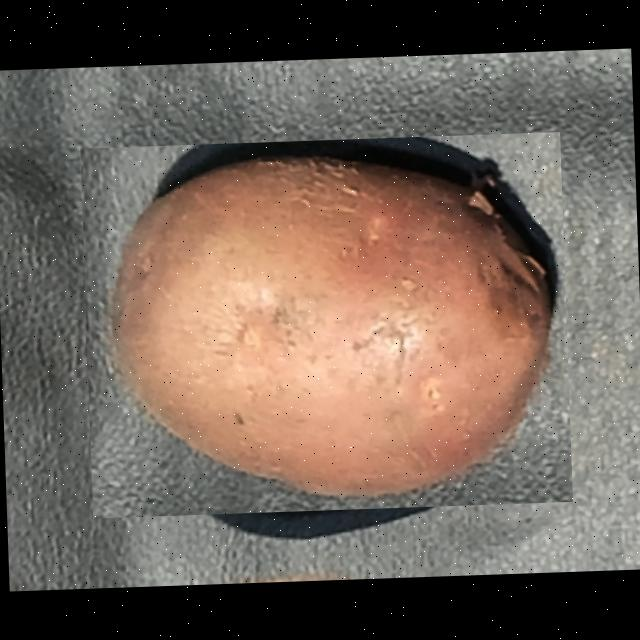Diseased-fungal potato: (80, 132, 572, 518)
